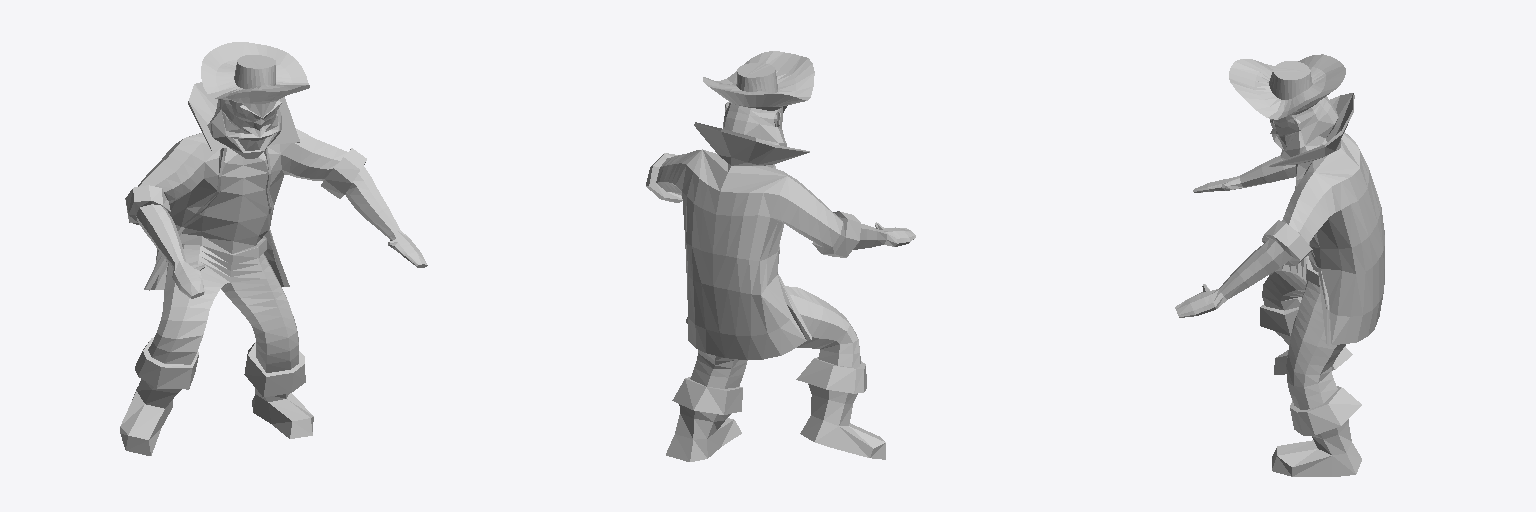
Rendered from PirataCelebracion_000122.obj.
3 views of the same model, side by side, from view 1: azimuth 30°, elevation 25°; view 2: azimuth 150°, elevation 25°; view 3: azimuth 270°, elevation 25° (orthographic).
Visible parts, largest first — view 1: Pirata_PirataH; view 2: Pirata_PirataH; view 3: Pirata_PirataH.
Part boxes in pixels (x1,y1,x2,y2): Pirata_PirataH: (120, 42, 427, 455); Pirata_PirataH: (646, 51, 915, 461); Pirata_PirataH: (1175, 54, 1384, 476).
Bounding box in the file's own units: 4.86 × 7.11 × 3.57.